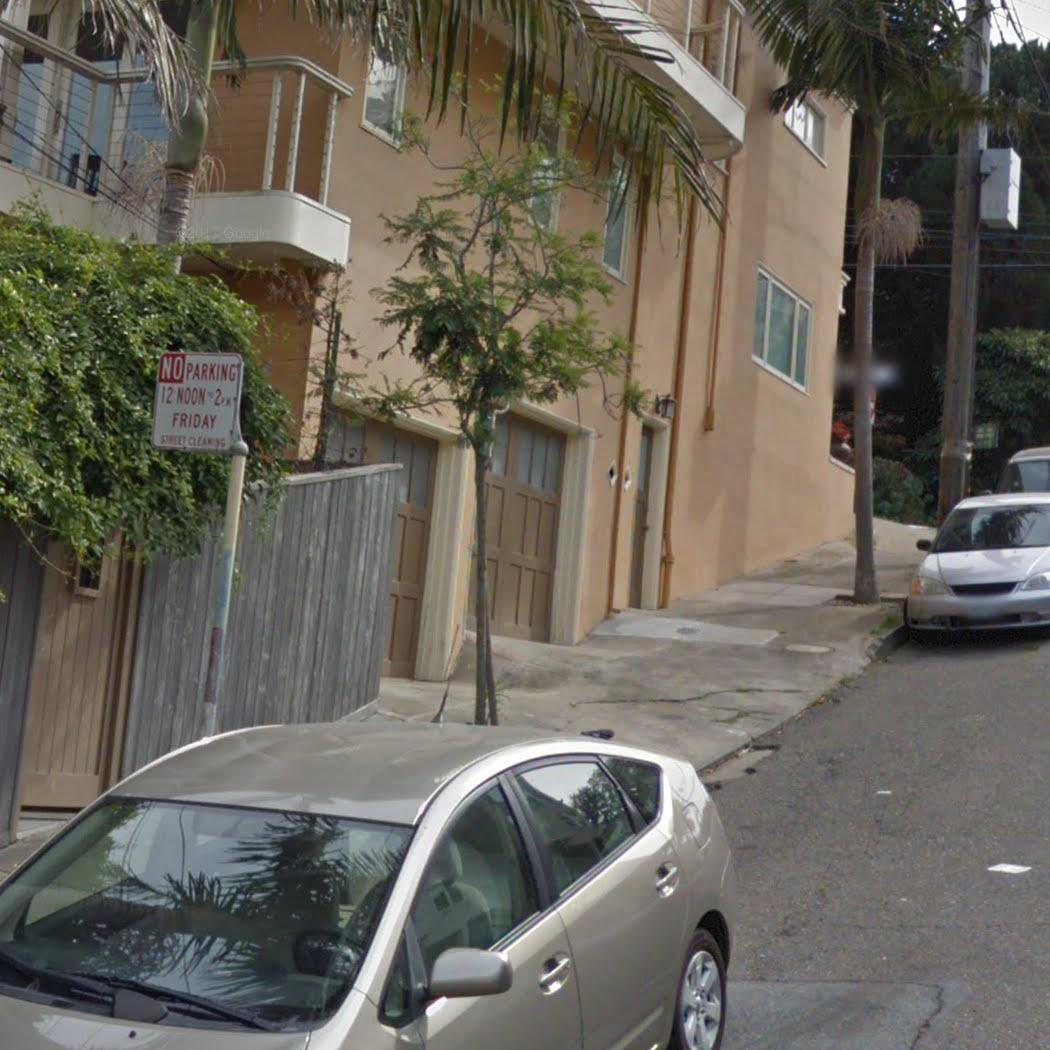No Parking: (147, 344, 248, 455)
